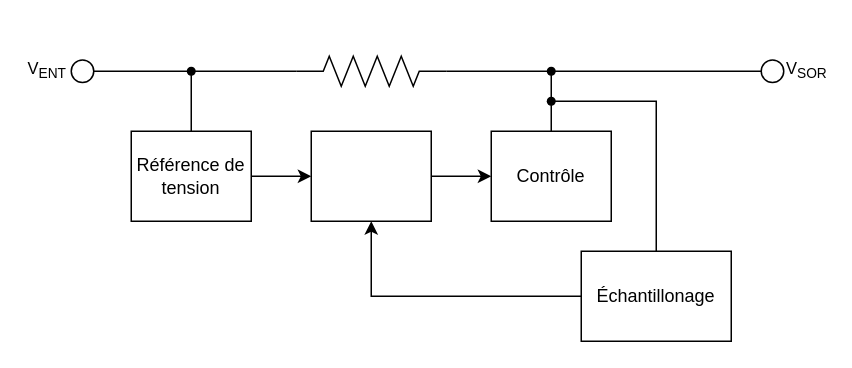
The diagram is 852 pixels wide and 368 high, and some of its shapes have lost their labels. The shapes that lost their labels are listed below. From the top down, each one's centre as x and y in pixels, then its label:
the point at 370,70: R 1
the point at 370,175: Détecteur d'erreur
